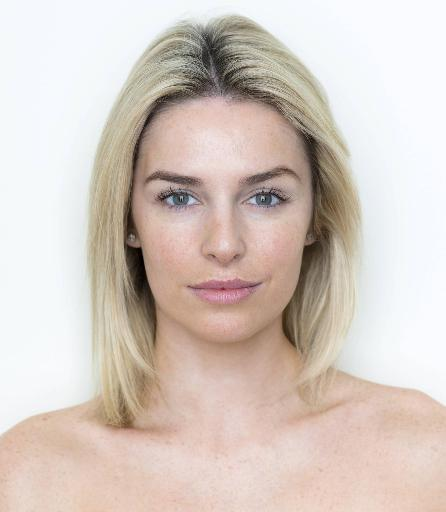left_eye: (244, 189, 292, 213)
left_lip_corner: (255, 280, 270, 293)
right_eye: (157, 191, 203, 215)
right_lip_corner: (184, 282, 199, 300)
